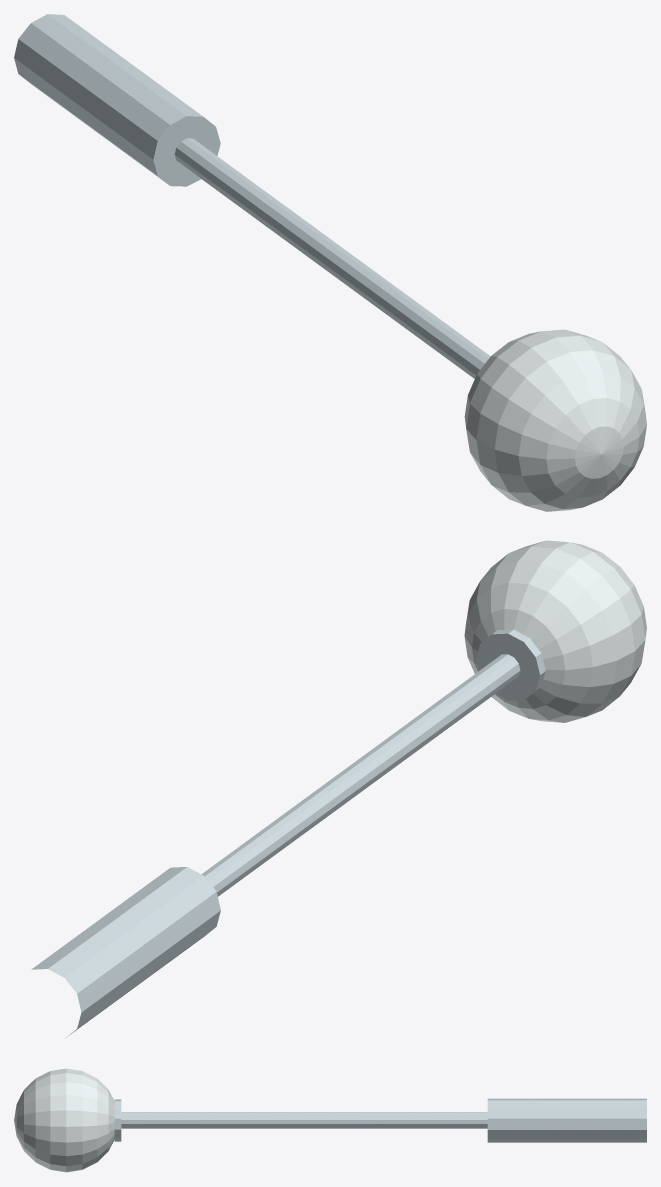
The model's file is qt-ld-178-geode.glb.
3 renders of one model, top to bottom at view 1: azimuth 30°, elevation 25°; view 2: azimuth 150°, elevation 25°; view 3: azimuth 270°, elevation 25°, orthographic. The views are drawn at different scales.
Visible parts, largest first — view 1: Node; view 2: Node; view 3: Node.
Part boxes in pixels (x1,y1,x2,y2): Node: (14, 14, 646, 511); Node: (31, 540, 646, 1037); Node: (14, 1068, 646, 1172).
Bounding box in the file's own units: 0.3441 × 0.3441 × 2.08.
2 materials, 2 textured.
